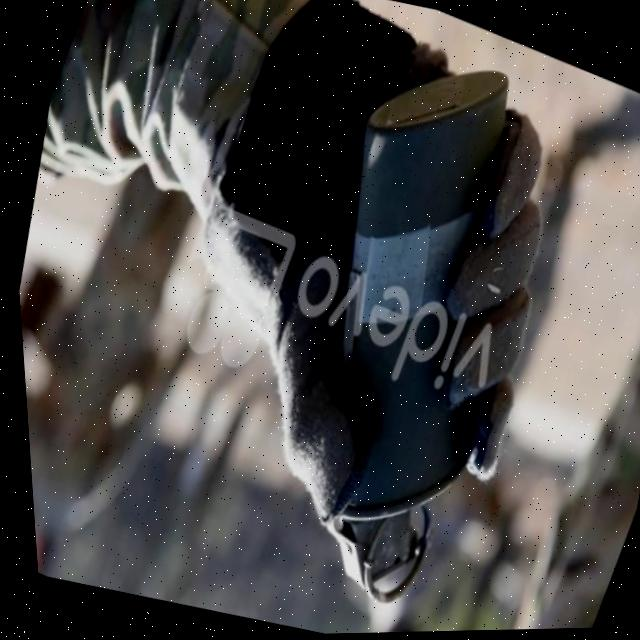grenade: (165, 0, 637, 637)
